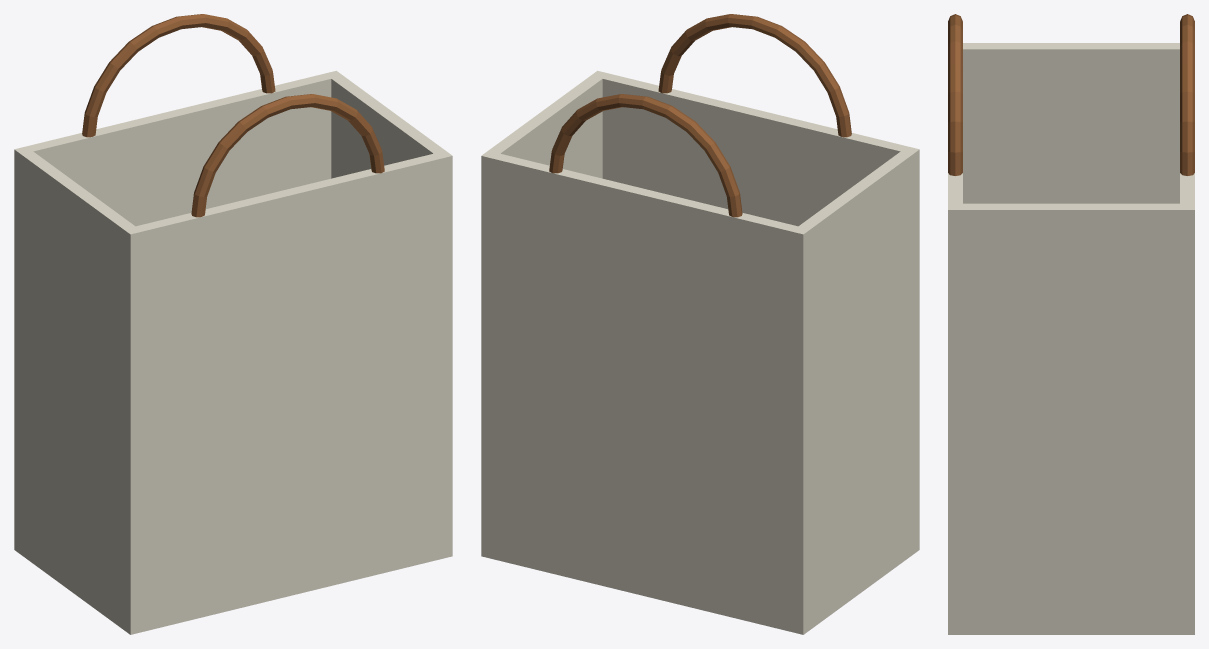
Rendered from shopping_bag.glb.
3 views of the same model, side by side, from view 1: azimuth 30°, elevation 25°; view 2: azimuth 150°, elevation 25°; view 3: azimuth 270°, elevation 25° (orthographic). The views are drawn at different scales.
Parts seen in each view (by area): view 1: shopping_bag; view 2: shopping_bag; view 3: shopping_bag.
Part boxes in pixels (x1=…): shopping_bag: x1=14, y1=14, x2=452, y2=634; shopping_bag: x1=481, y1=14, x2=919, y2=634; shopping_bag: x1=948, y1=14, x2=1194, y2=634.
Size of the model in its own units: 0.32 by 0.471 by 0.2.
